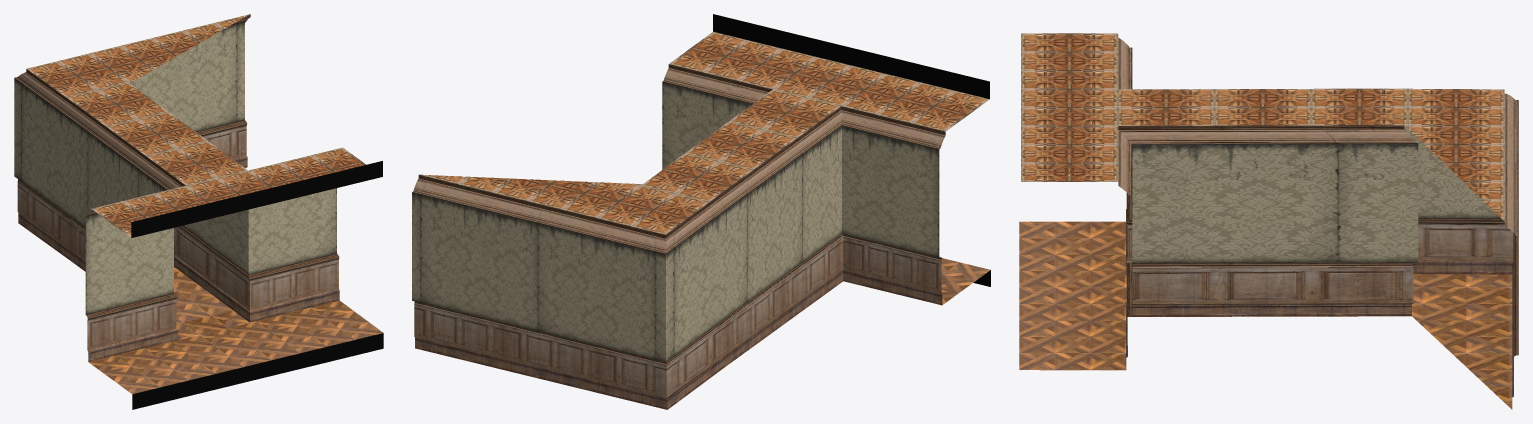
The model's file is Corridor_01_Branch.FBX.
The picture shows the model from 3 angles, left to right: view 1: azimuth 30°, elevation 25°; view 2: azimuth 150°, elevation 25°; view 3: azimuth 270°, elevation 25°; orthographic projection. The views are drawn at different scales.
Visible parts, largest first — view 1: Corridor_Straight001; view 2: Corridor_Straight001; view 3: Corridor_Straight001.
Boxes of the visible parts, <box> form: Corridor_Straight001: <box>14,14,383,409</box>; Corridor_Straight001: <box>412,14,990,409</box>; Corridor_Straight001: <box>1019,33,1518,409</box>.
Size of the model in its own units: 178 by 99.62 by 199.
Materials: 5 (4 with a texture image).
